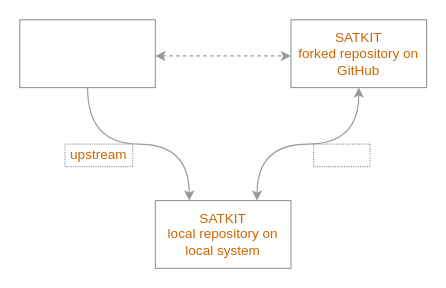
This 446x288 diagram has some shape labels left out. The centre of each missing label's shape, as x and y in pixels:
"origin" belongs at point 341,155.
"SATKIT main repository on GitHub" belongs at point 87,53.
